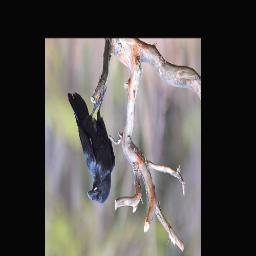Crow: (66, 87, 115, 205)
